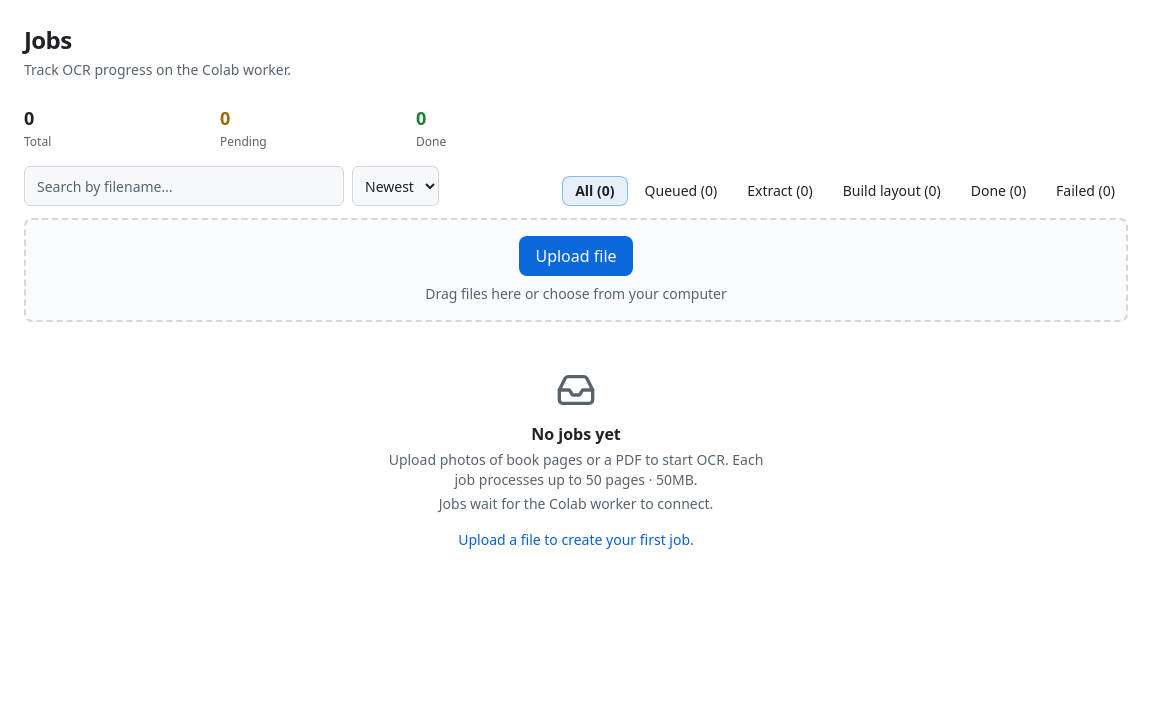
Test: q active + total 0 → empty-filter, không hiện empty-state
The width and height of the screenshot is (1152, 720).
expect the element with test id "empty-state" is shown: met, box x1=389 y1=370 x2=763 y2=549
Type "khongtainao" into the search field with test id "jobs-search" at [184, 186], box x1=24 y1=166 x2=344 y2=206
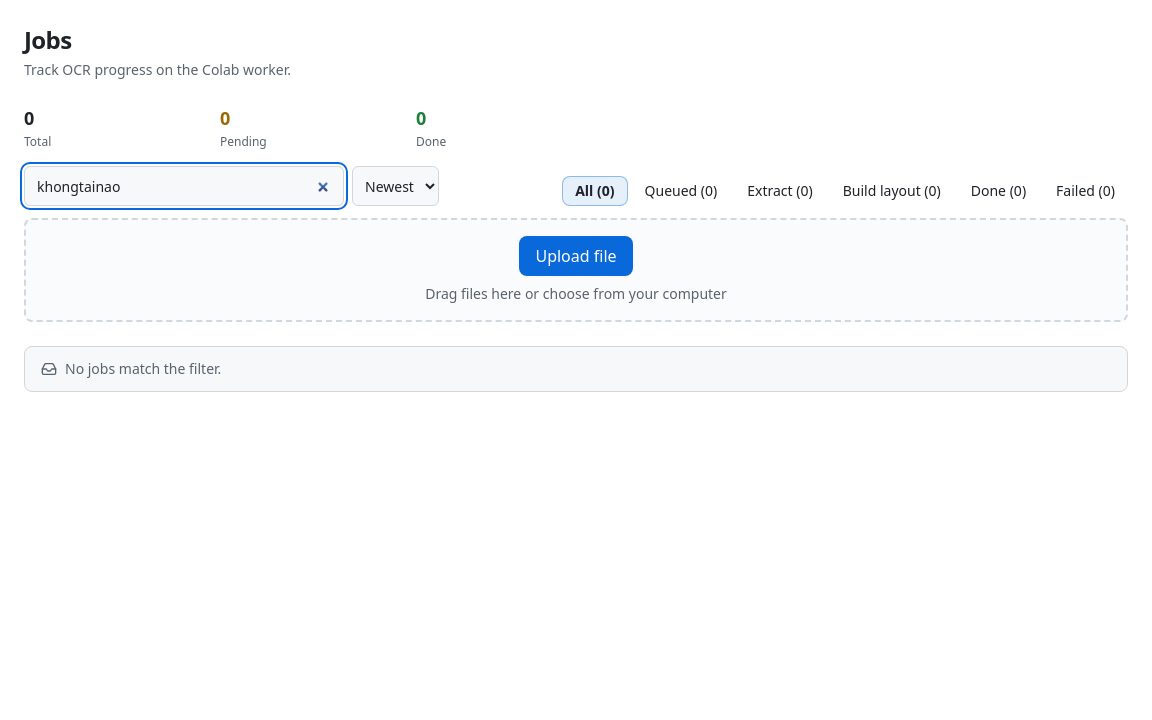
expect the element with test id "empty-filter" is shown: met, box x1=24 y1=346 x2=1128 y2=392
expect the element with test id "empty-state" is gone: met
